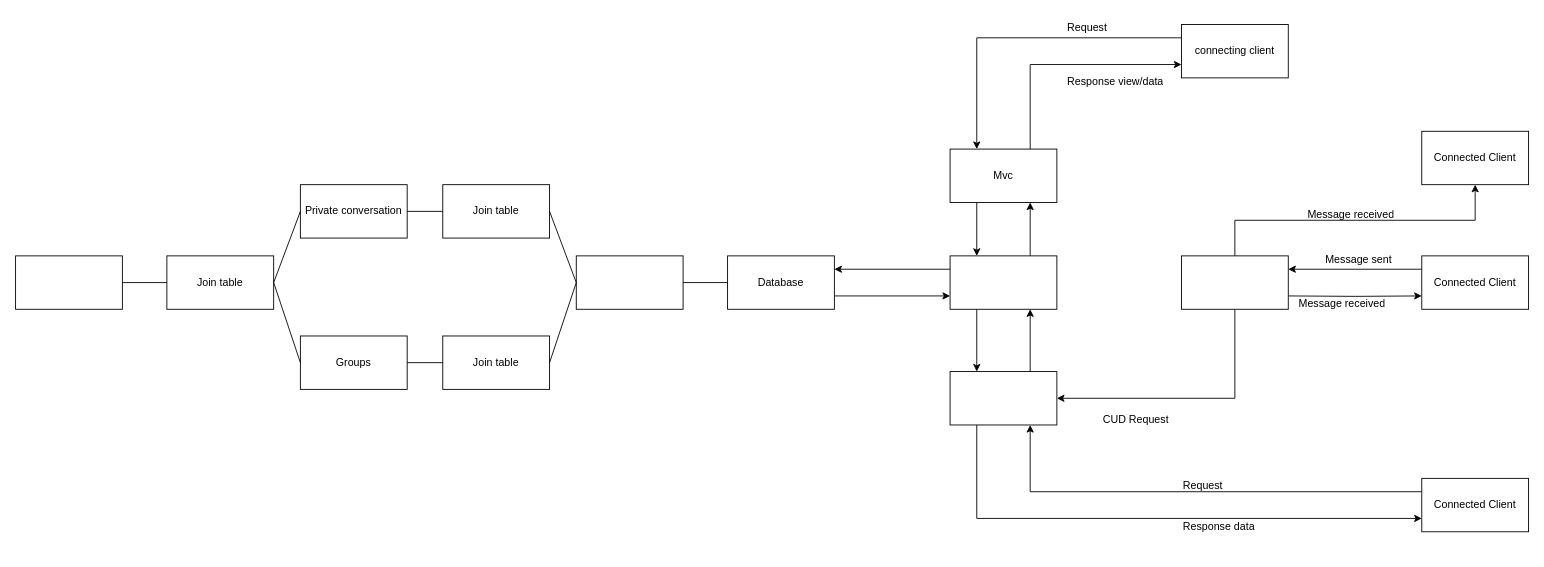
The diagram is 1544 pixels wide and 567 high, and some of its shapes have lost their labels. Each missing label, with the centre of its shape:
API: the point at 1003,398
Library: the point at 1003,282
Messages: the point at 68,282
User: the point at 629,282
Websocket/SignalR: the point at 1234,282
